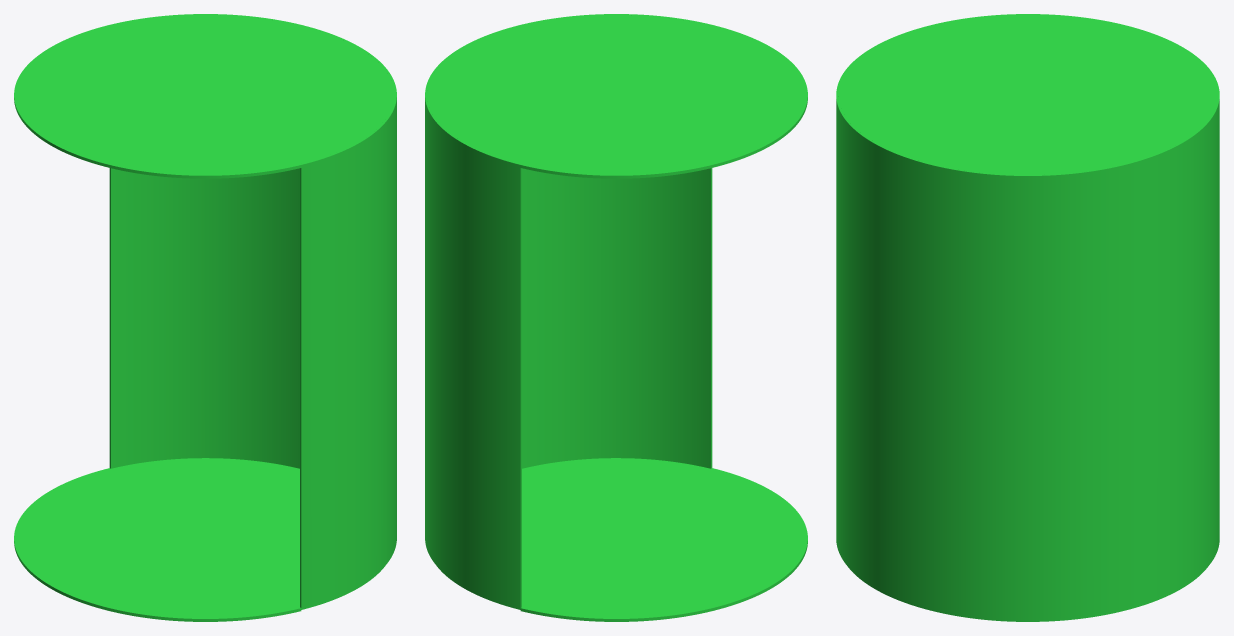
Rendered from cylinder_table.glb.
The picture shows the model from 3 angles, left to right: view 1: azimuth 30°, elevation 25°; view 2: azimuth 150°, elevation 25°; view 3: azimuth 270°, elevation 25°; orthographic projection.
Parts seen in each view (by area): view 1: body; view 2: body; view 3: body.
Part boxes in pixels (x1,y1,x2,y2): body: [14, 14, 396, 621]; body: [425, 14, 807, 621]; body: [836, 14, 1219, 621].
Bounding box in the file's own units: 0.35 × 0.453 × 0.35.
